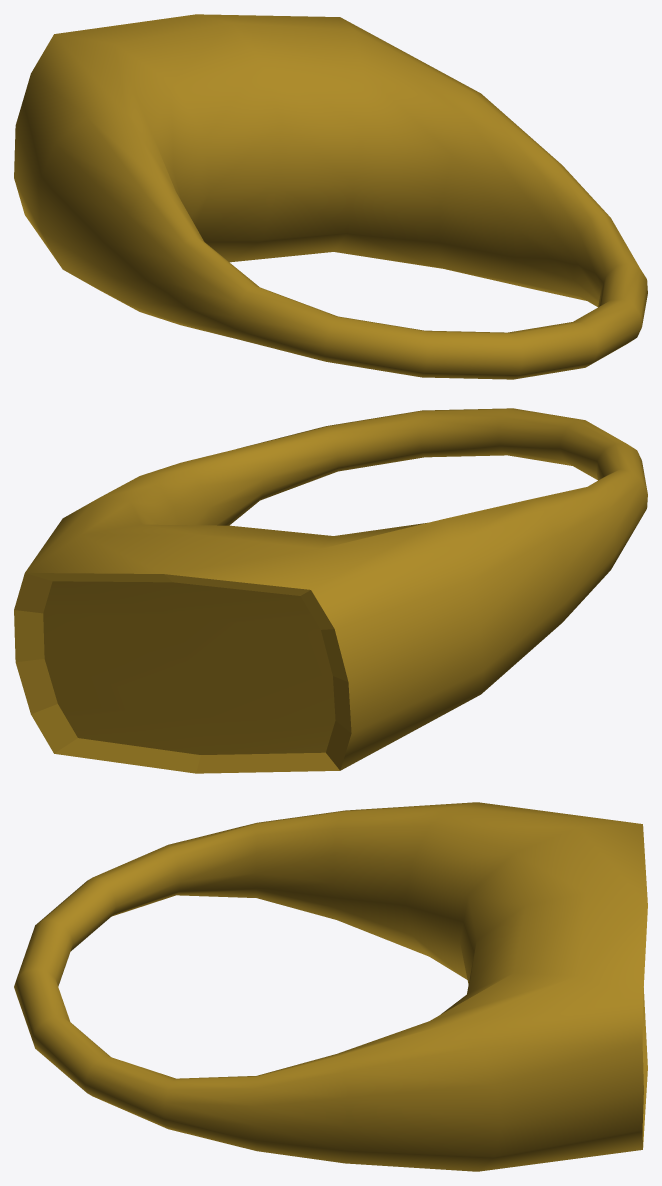
File: Ring_S51.FBX
3 renders of one model, top to bottom at view 1: azimuth 30°, elevation 25°; view 2: azimuth 150°, elevation 25°; view 3: azimuth 270°, elevation 25°, orthographic. The views are drawn at different scales.
Parts seen in each view (by area): view 1: Ring_mesh; view 2: Ring_mesh; view 3: Ring_mesh.
Boxes of the visible parts, left/top/right/bottom form: Ring_mesh: left=14, top=14, right=647, bottom=379; Ring_mesh: left=14, top=408, right=647, bottom=773; Ring_mesh: left=14, top=802, right=647, bottom=1171.
Bounding box in the file's own units: 0.029 × 0.0381 × 0.015.
